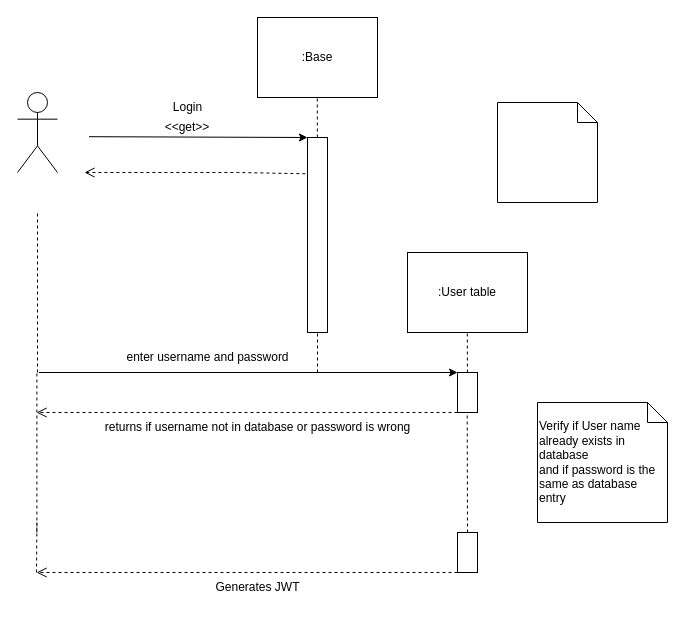
Some shapes in this 685 by 620 pixel diagram are drawn without their labels. Here are the shapes that lost their labels. From the top down, the centre of each, then its label:
At point 37,132: "User".
At point 547,152: "Log In".
